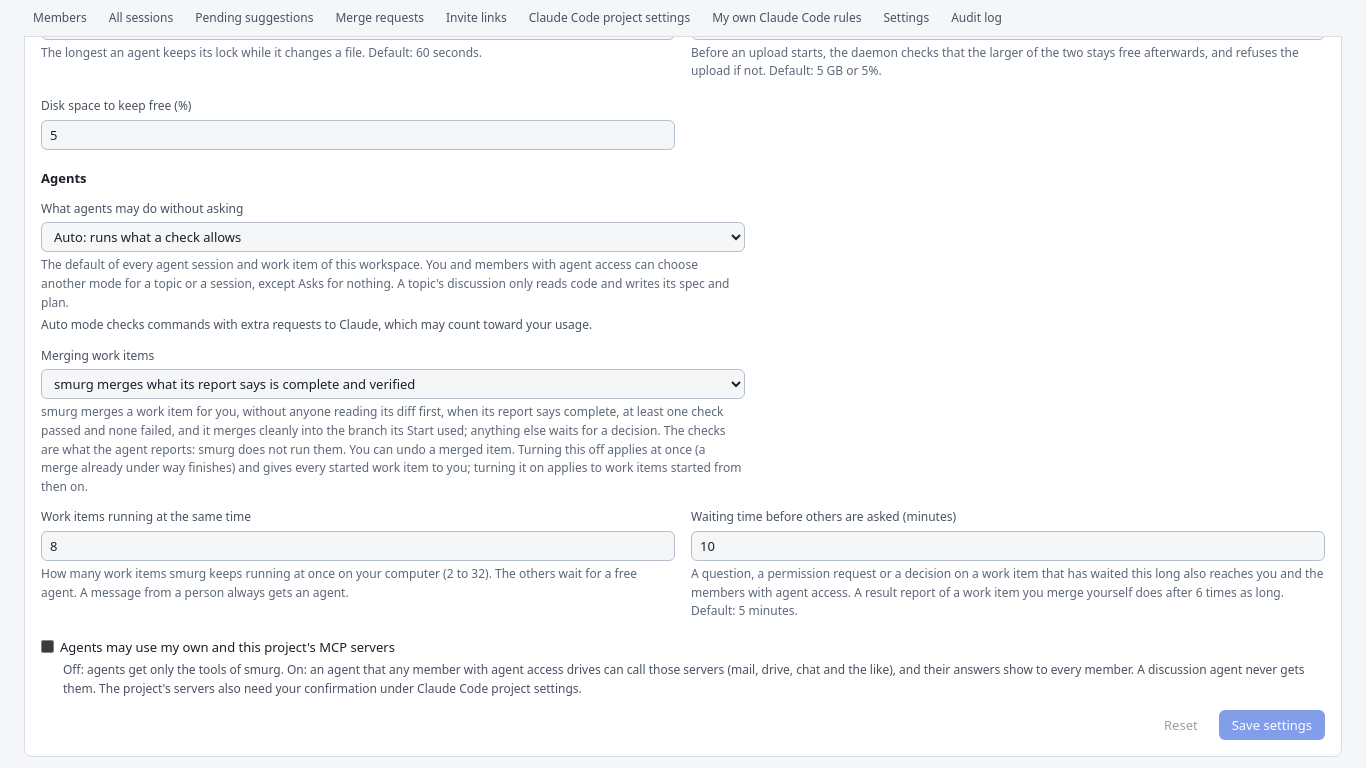
Test: host console: merging work items (protocol 6, DESIGN 0.7.0 D3, D18) › "Merging work items": smurg merges what its report says is complete and verified, or I merge each item myself; it applies at once
This screenshot has width=1366, height=768.
(page scrolled)
Check: the text "The checks are what the agent reports: smurg does not run them. You can undo a merged item." is shown, box [41,403,741,495]
Select "I merge each item myself" in the dropdown labelled "Merging work items": coordinates (393, 384) [41,369,745,399]
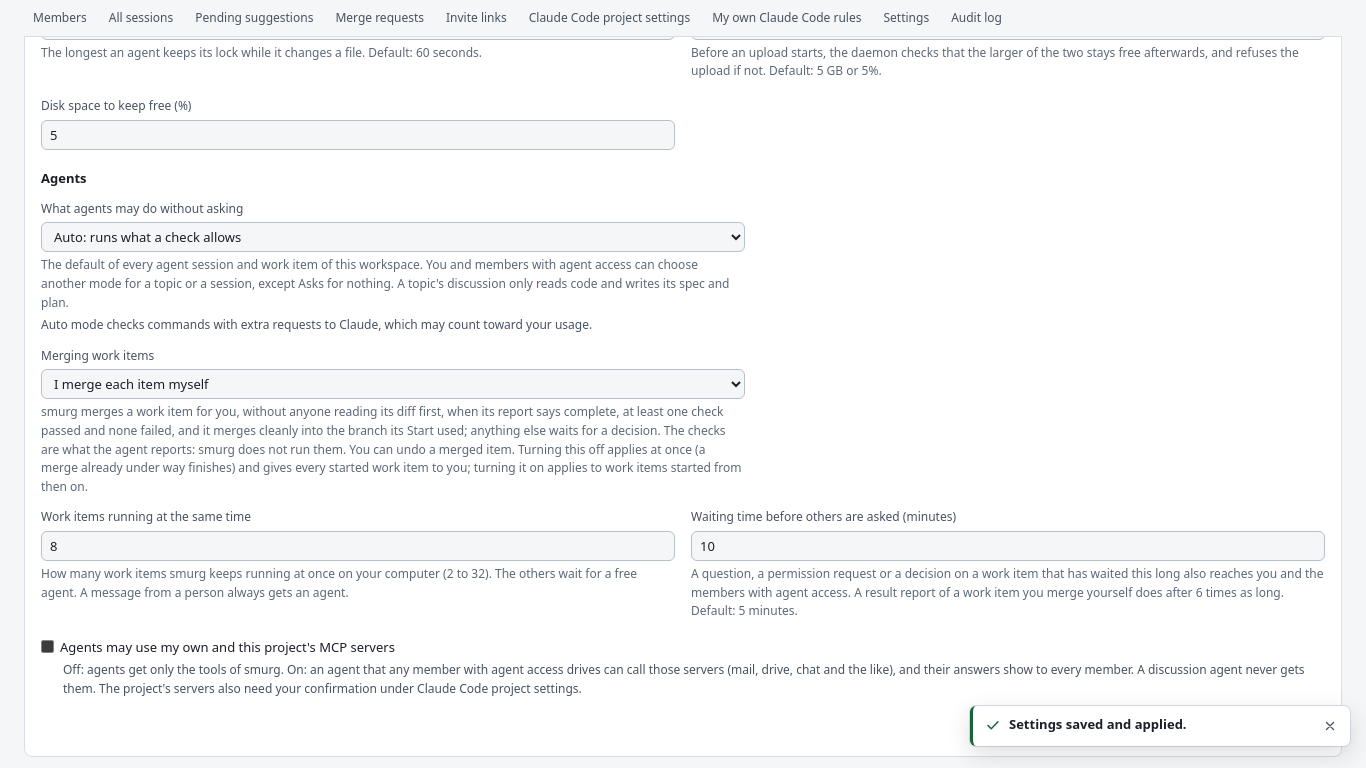
Check: the text "Settings saved and applied." is shown, box [1009,715,1187,733]
